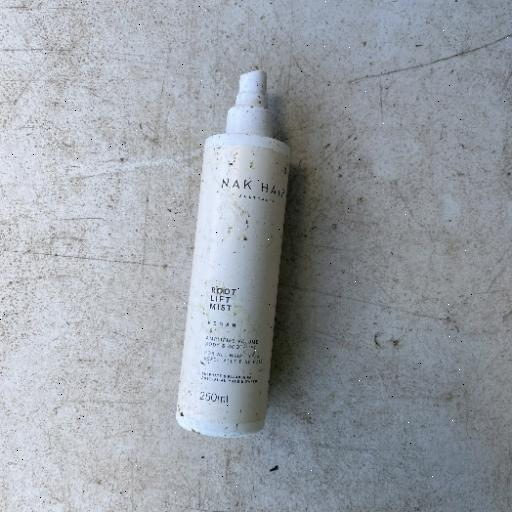Plastic: (173, 68, 292, 438)
